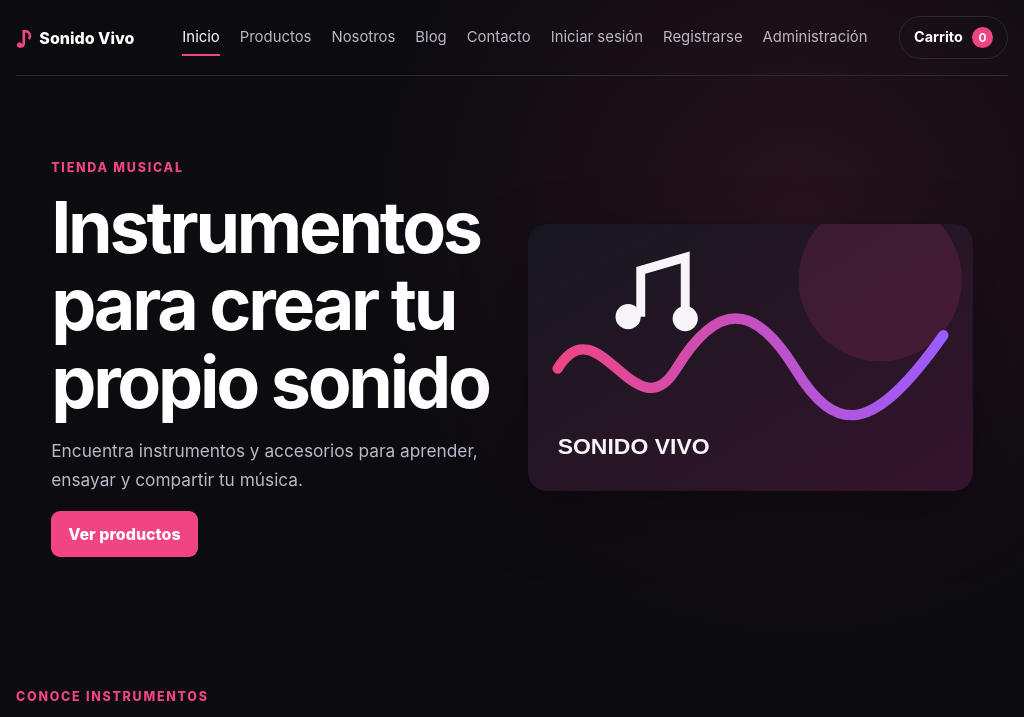
Test: Rutas de la aplicación › permite entrar al blog desde la navegación
This screenshot has width=1024, height=717.
Click the link "Blog". click: (431, 36)
box: [415,28,447,46]
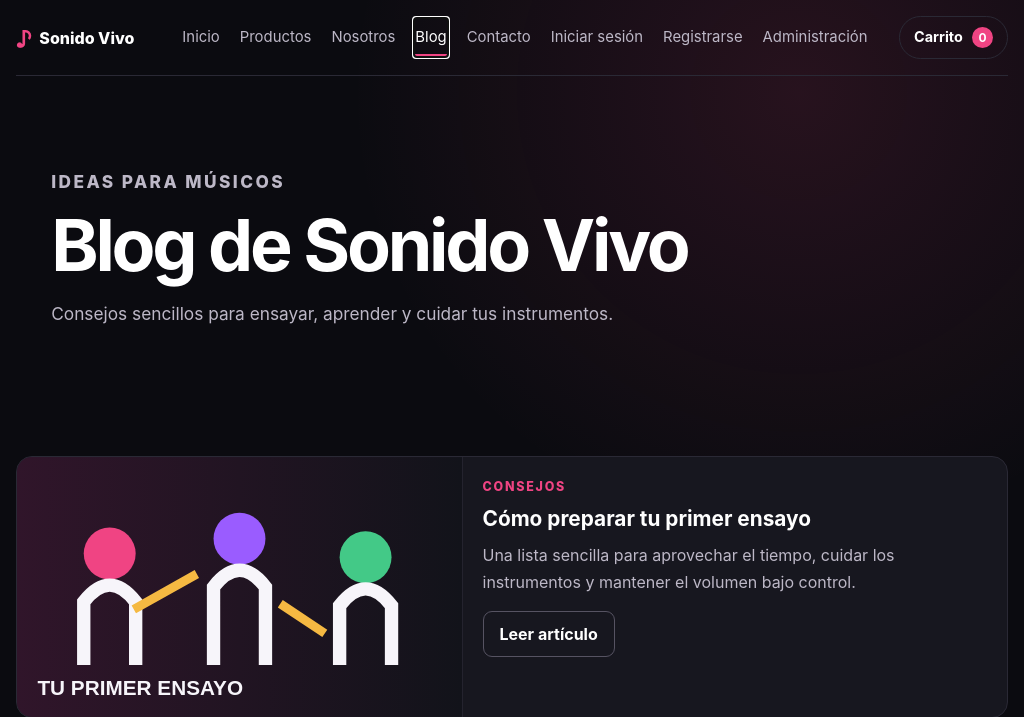
Check: the heading "Blog de Sonido Vivo" is shown, box [51,202,687,288]
